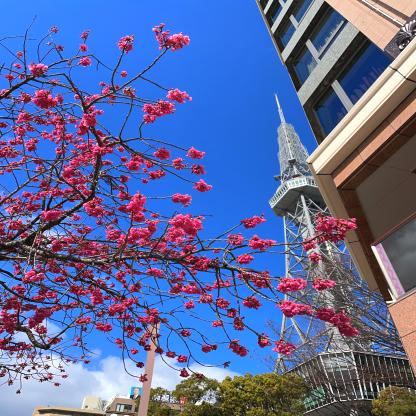KanhiSakura: (0, 23, 361, 395)
